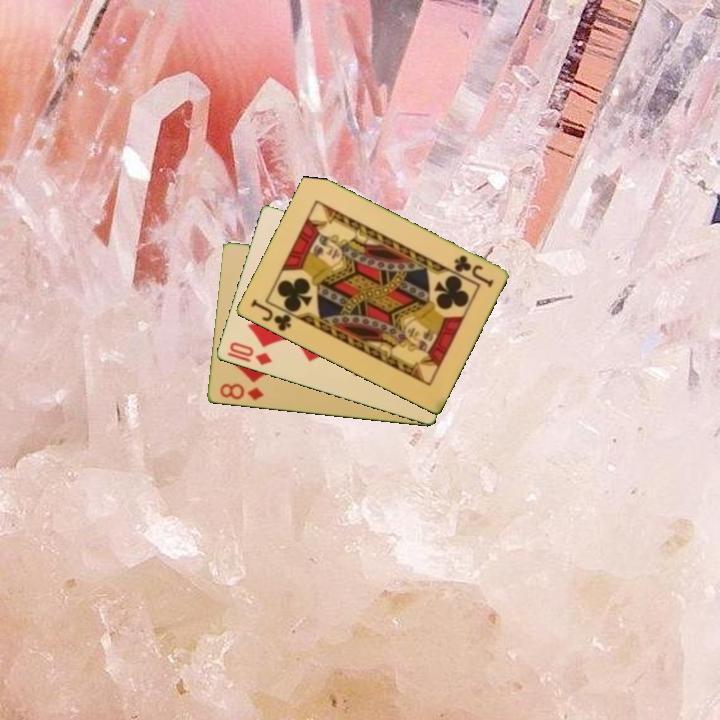10d: (224, 339, 275, 369)
8d: (216, 380, 266, 403)
Jc: (247, 295, 294, 335), (450, 252, 496, 290)
